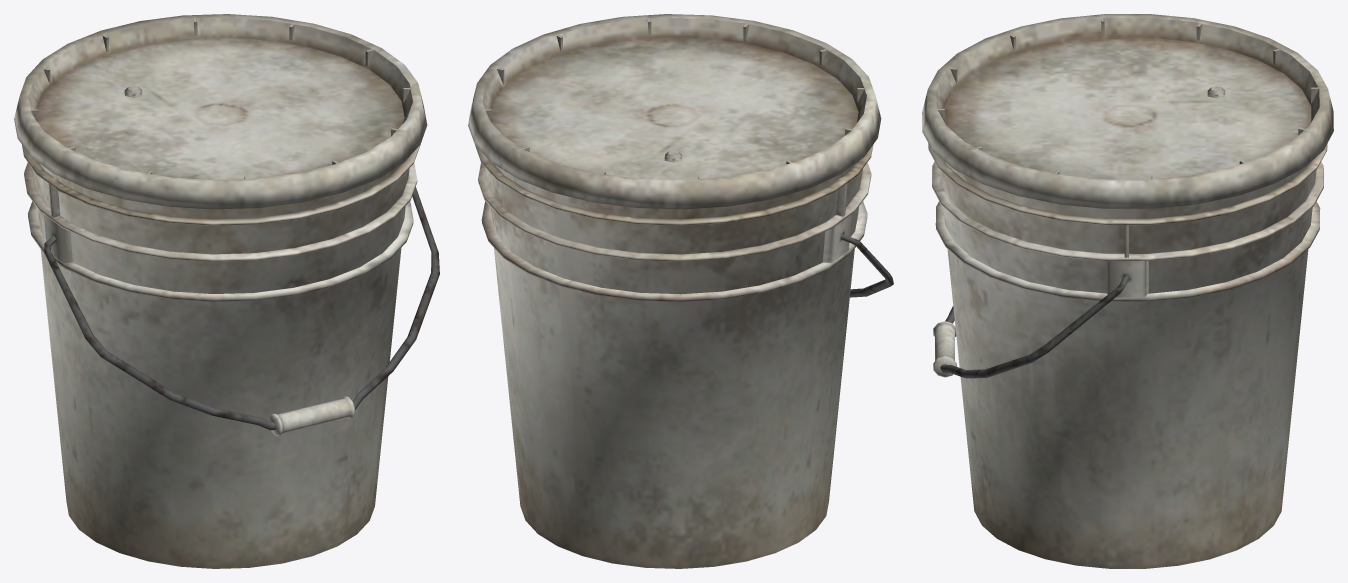
Rendered from 072_PlasticBucket.fbx.
3 views of the same model, side by side, from view 1: azimuth 30°, elevation 25°; view 2: azimuth 150°, elevation 25°; view 3: azimuth 270°, elevation 25° (orthographic).
Parts seen in each view (by area): view 1: LOD_1_Group_1_Sub_1__sm30_072_PlasticBucket01A_A_Mat, LOD_1_Group_0_Sub_1__sm30_072_PlasticBucket01A_A_Mat, LOD_1_Group_2_Sub_1__sm30_072_PlasticBucket01A_A_Mat, LOD_1_Group_3_Sub_1__sm30_072_PlasticBucket01A_A_Mat; view 2: LOD_1_Group_1_Sub_1__sm30_072_PlasticBucket01A_A_Mat, LOD_1_Group_0_Sub_1__sm30_072_PlasticBucket01A_A_Mat, LOD_1_Group_2_Sub_1__sm30_072_PlasticBucket01A_A_Mat; view 3: LOD_1_Group_1_Sub_1__sm30_072_PlasticBucket01A_A_Mat, LOD_1_Group_0_Sub_1__sm30_072_PlasticBucket01A_A_Mat, LOD_1_Group_2_Sub_1__sm30_072_PlasticBucket01A_A_Mat, LOD_1_Group_3_Sub_1__sm30_072_PlasticBucket01A_A_Mat.
Part boxes in pixels (box(x1,y1,x2,y2)): LOD_1_Group_1_Sub_1__sm30_072_PlasticBucket01A_A_Mat: box(22, 145, 420, 568); LOD_1_Group_0_Sub_1__sm30_072_PlasticBucket01A_A_Mat: box(14, 14, 427, 209); LOD_1_Group_2_Sub_1__sm30_072_PlasticBucket01A_A_Mat: box(44, 187, 439, 430); LOD_1_Group_3_Sub_1__sm30_072_PlasticBucket01A_A_Mat: box(269, 396, 354, 436); LOD_1_Group_1_Sub_1__sm30_072_PlasticBucket01A_A_Mat: box(475, 144, 873, 568); LOD_1_Group_0_Sub_1__sm30_072_PlasticBucket01A_A_Mat: box(468, 14, 881, 209); LOD_1_Group_2_Sub_1__sm30_072_PlasticBucket01A_A_Mat: box(840, 234, 893, 297); LOD_1_Group_1_Sub_1__sm30_072_PlasticBucket01A_A_Mat: box(928, 143, 1327, 568); LOD_1_Group_0_Sub_1__sm30_072_PlasticBucket01A_A_Mat: box(922, 14, 1333, 208); LOD_1_Group_2_Sub_1__sm30_072_PlasticBucket01A_A_Mat: box(940, 275, 1129, 378); LOD_1_Group_3_Sub_1__sm30_072_PlasticBucket01A_A_Mat: box(933, 321, 956, 377).
Bounding box in the file's own units: 0.31 × 0.3305 × 0.3042.
